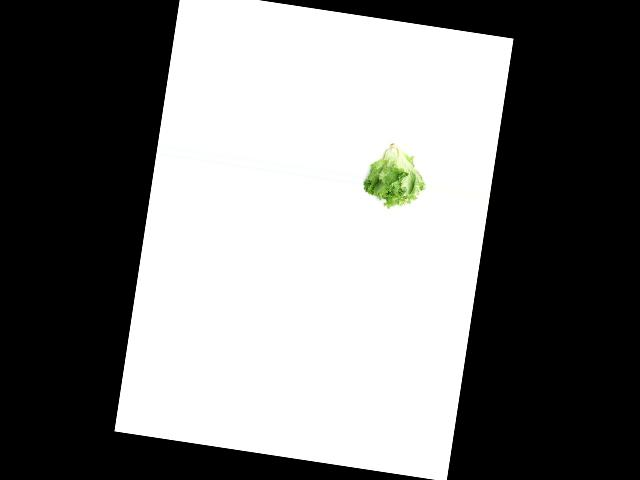lettuce: (359, 138, 432, 212)
